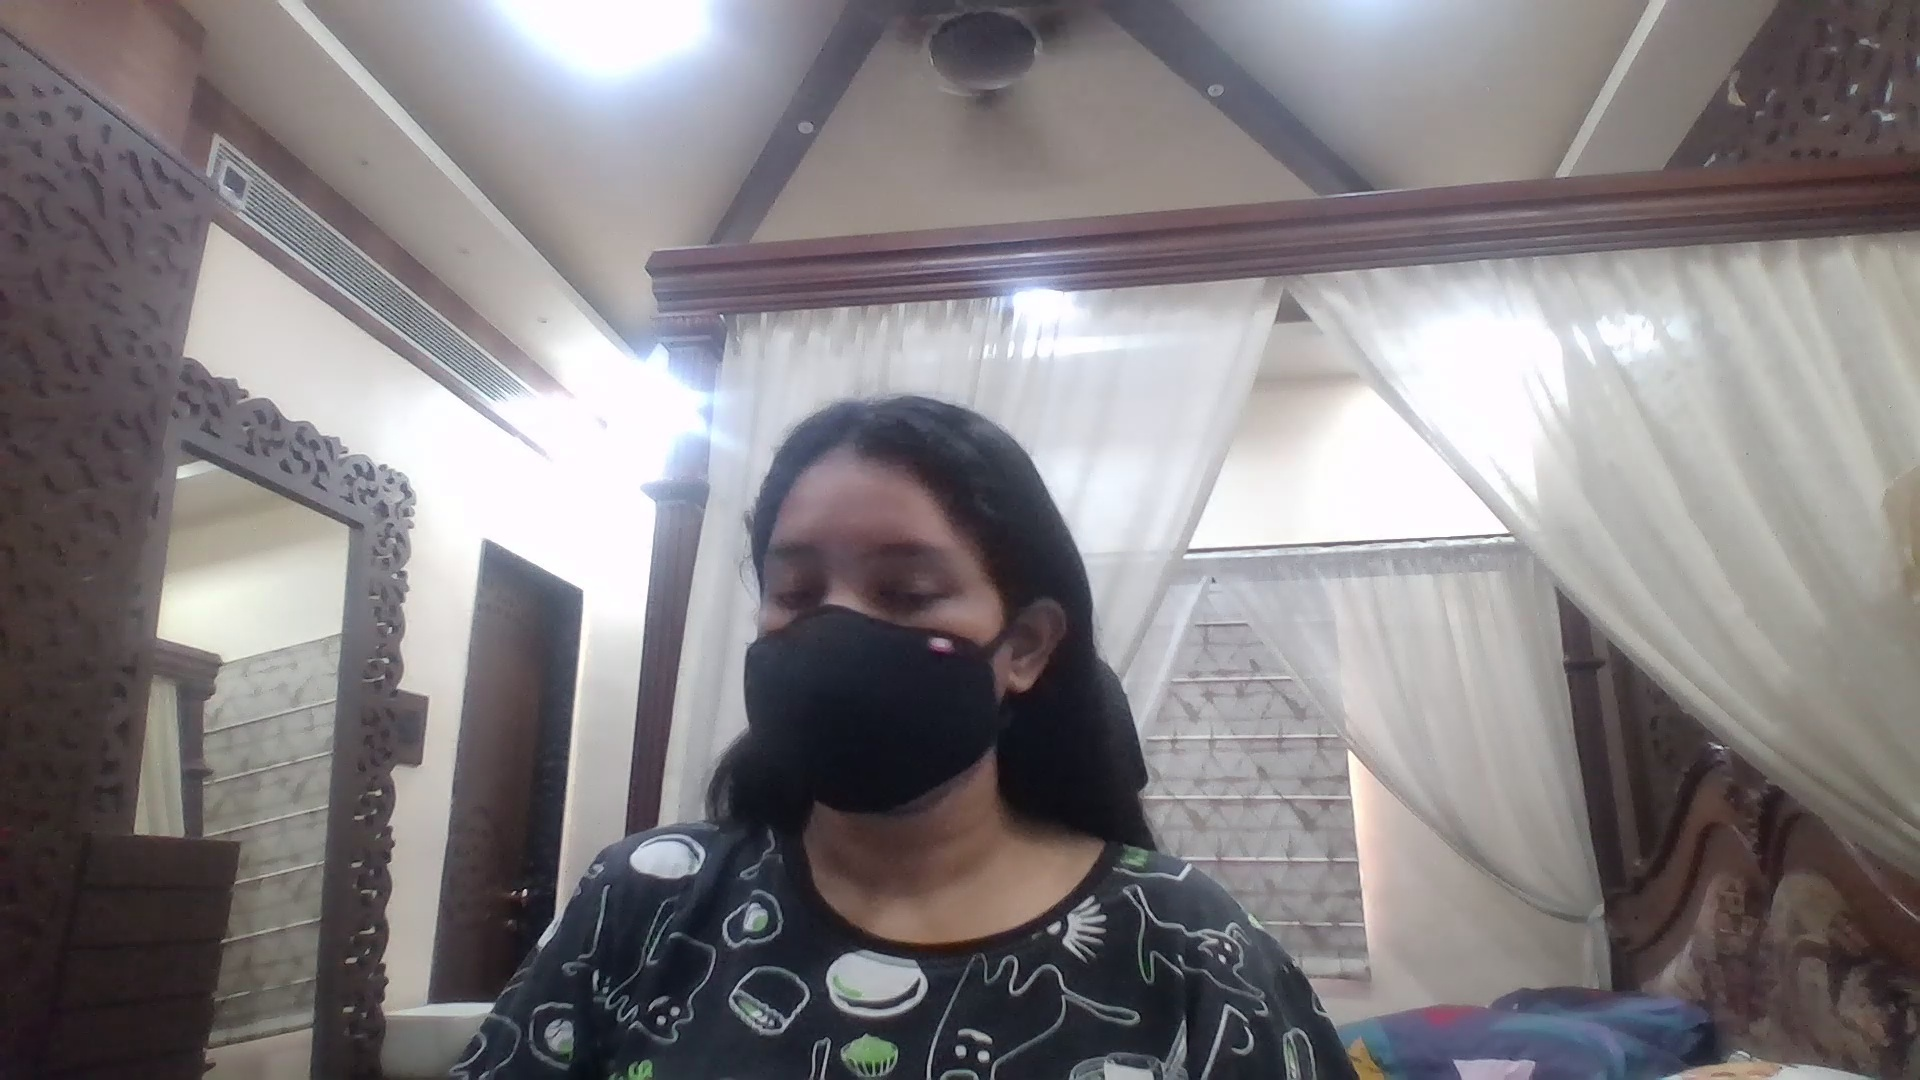Mask: (739, 613, 1001, 811)
